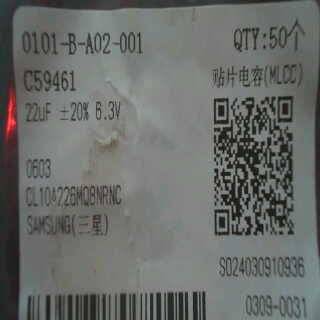22uF: (17, 97, 53, 127)
